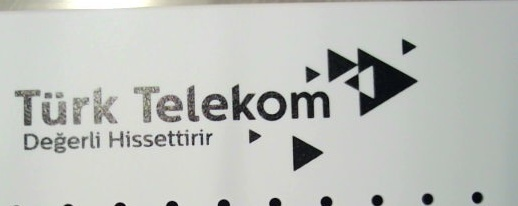AQ_TURKTelekom: (15, 30, 421, 172)
